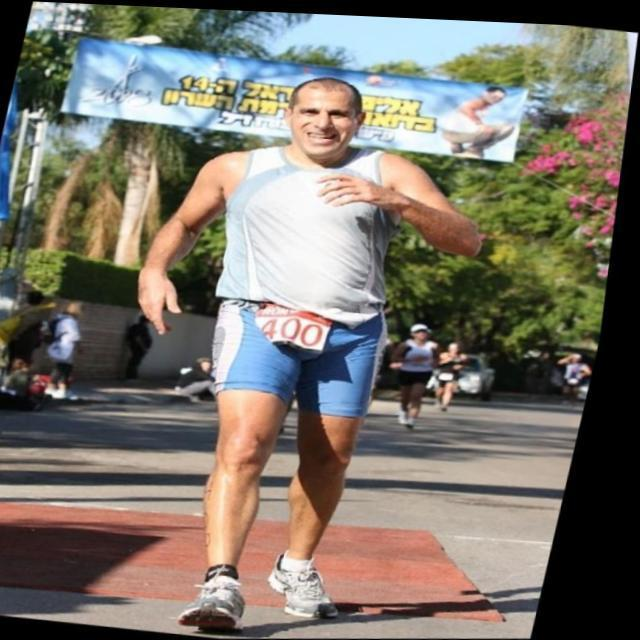dorsal: (248, 294, 357, 359)
